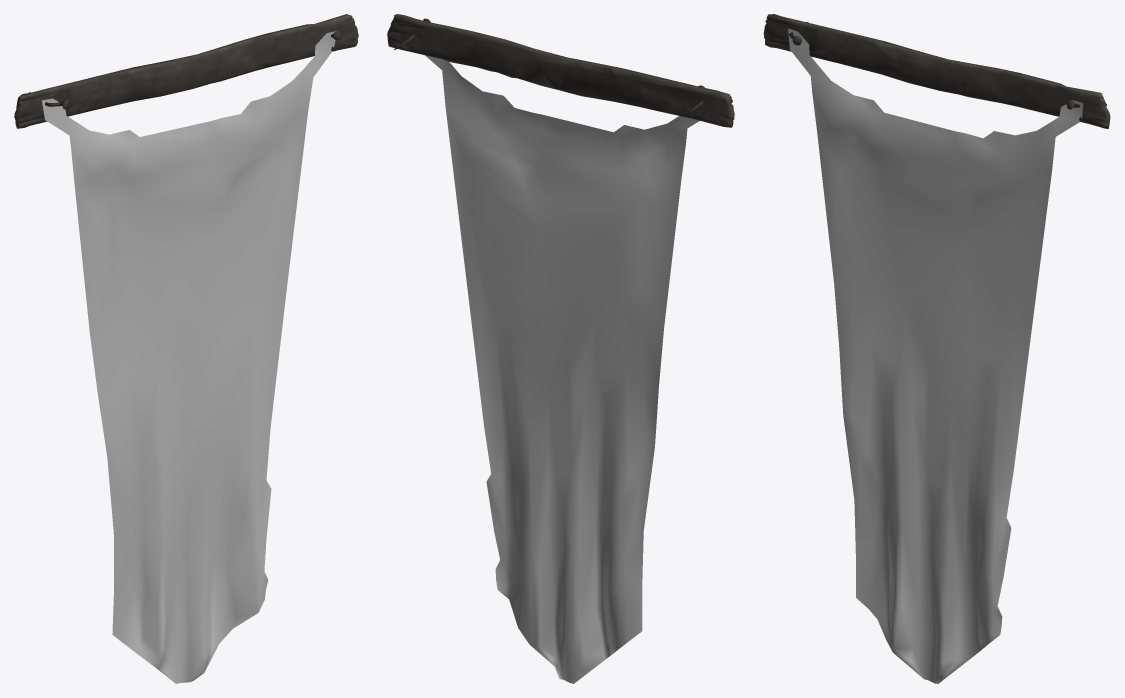
File: Banner_02.fbx
3 renders of one model, left to right at view 1: azimuth 30°, elevation 25°; view 2: azimuth 150°, elevation 25°; view 3: azimuth 330°, elevation 25°, orthographic.
Parts seen in each view (by area): view 1: Banner_02, Banner_Plank_02; view 2: Banner_02, Banner_Plank_02; view 3: Banner_02, Banner_Plank_02.
Boxes of the visible parts, x1,y1,x2,y2 form: Banner_02: [42, 31, 337, 683]; Banner_Plank_02: [14, 14, 358, 128]; Banner_02: [425, 55, 699, 683]; Banner_Plank_02: [387, 14, 734, 127]; Banner_02: [788, 28, 1083, 683]; Banner_Plank_02: [763, 14, 1110, 128].
Size of what is drawn, in the model's own units: 145 by 252 by 19.03.
